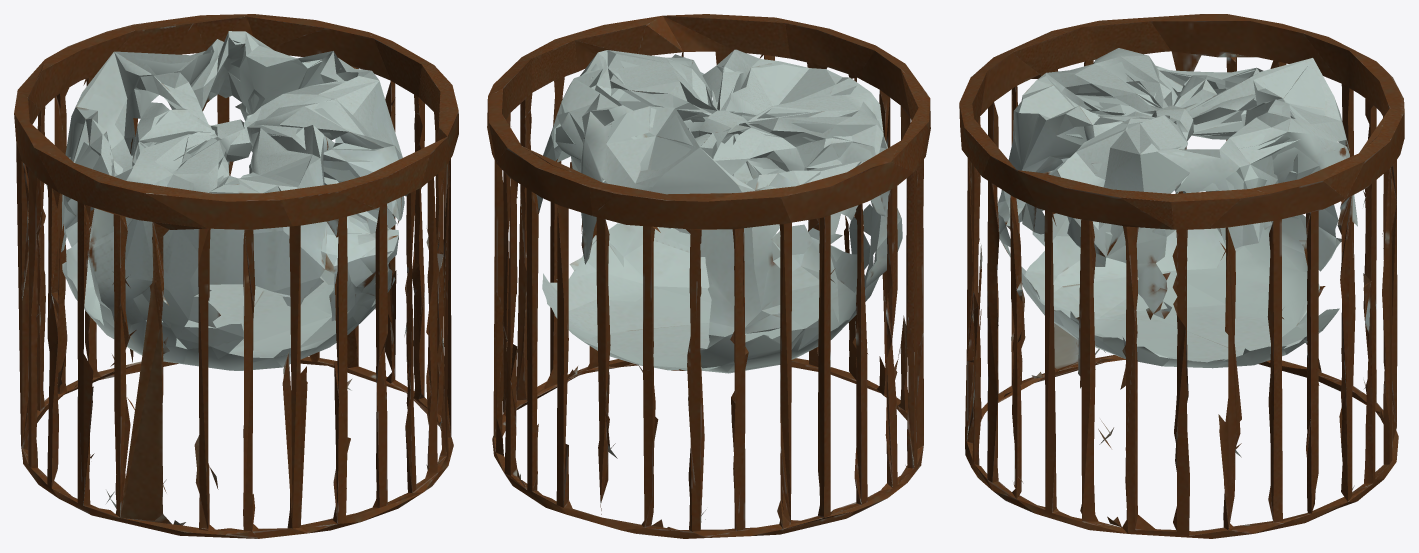
File: cestino.glb
The picture shows the model from 3 angles, left to right: view 1: azimuth 30°, elevation 25°; view 2: azimuth 150°, elevation 25°; view 3: azimuth 270°, elevation 25°; orthographic projection.
Size of the model in its own units: 1.9 by 1.74 by 1.9.
Materials: 1 (1 with a texture image).
